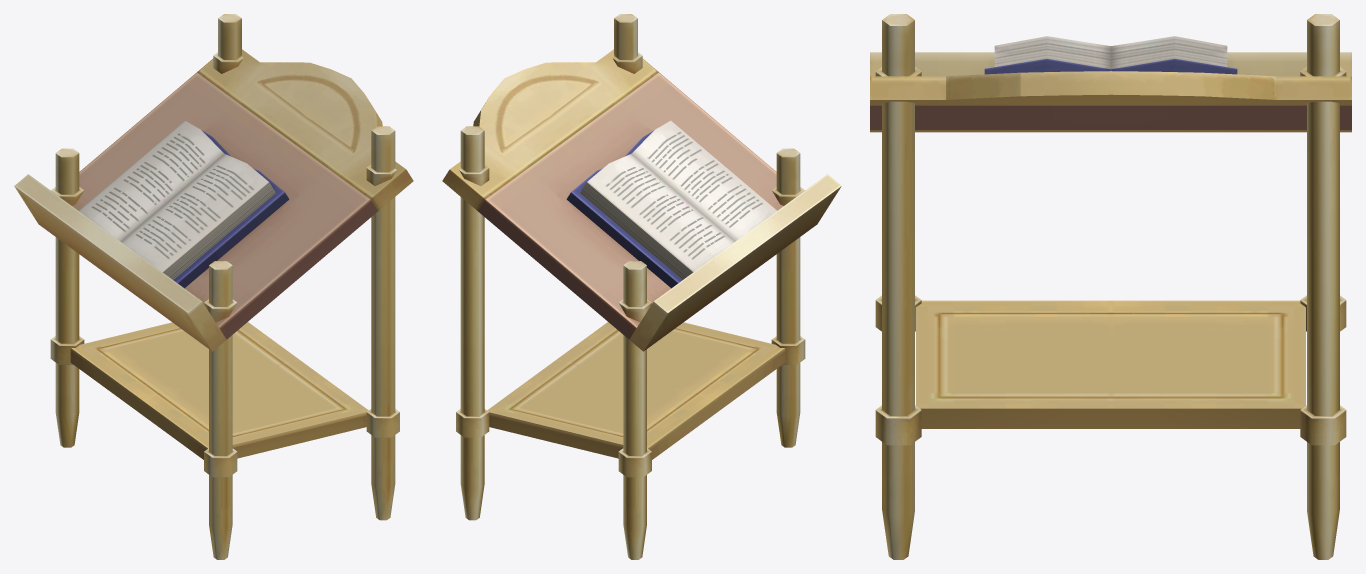
File: my_teaparty_01_bookstand_01.glb
3 renders of one model, left to right at view 1: azimuth 30°, elevation 25°; view 2: azimuth 150°, elevation 25°; view 3: azimuth 270°, elevation 25°, orthographic. The views are drawn at different scales.
Visible parts, largest first — view 1: my_teaparty_01_bookstand_01; view 2: my_teaparty_01_bookstand_01; view 3: my_teaparty_01_bookstand_01.
Part boxes in pixels (box(x1,y1,x2,y2)): my_teaparty_01_bookstand_01: box(14, 14, 413, 559); my_teaparty_01_bookstand_01: box(442, 14, 841, 559); my_teaparty_01_bookstand_01: box(870, 14, 1351, 559).
Bounding box in the file's own units: 0.00402 × 0.00577 × 0.0047.
Materials: 1 (1 with a texture image).
